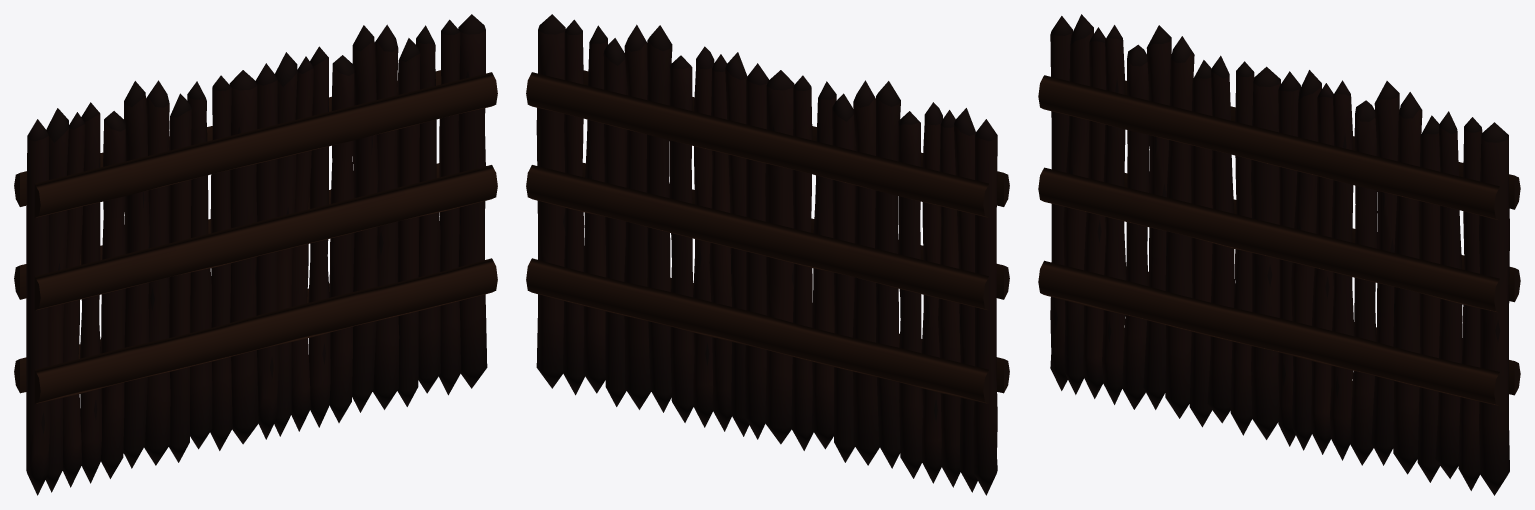
The model's file is WoodBarricade_Normal.fbx.
3 renders of one model, left to right at view 1: azimuth 30°, elevation 25°; view 2: azimuth 150°, elevation 25°; view 3: azimuth 330°, elevation 25°, orthographic.
Parts seen in each view (by area): view 1: WoodBarricade_Normal; view 2: WoodBarricade_Normal; view 3: WoodBarricade_Normal.
Part boxes in pixels (<box>): WoodBarricade_Normal: <box>14,14,497,495</box>; WoodBarricade_Normal: <box>526,14,1009,495</box>; WoodBarricade_Normal: <box>1038,14,1520,495</box>.
Bounding box in the file's own units: 884 × 725 × 93.1.
